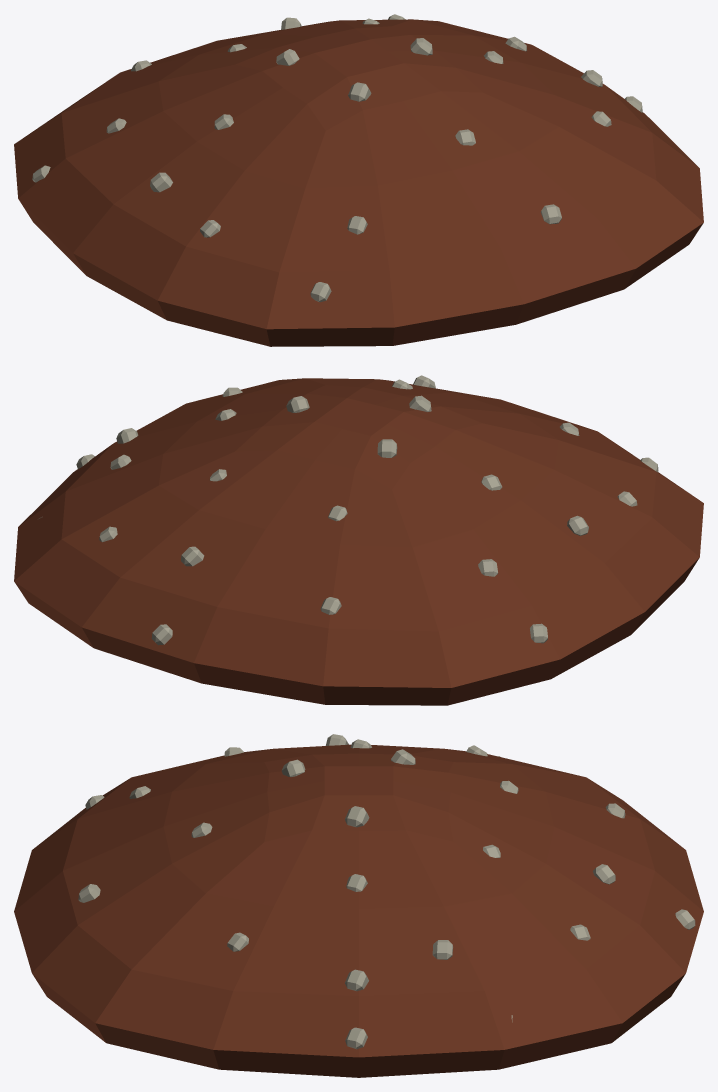
The model's file is Mushroom_Crop.gltf.
3 views of the same model, one above another, from view 1: azimuth 30°, elevation 25°; view 2: azimuth 150°, elevation 25°; view 3: azimuth 270°, elevation 25° (orthographic). The views are drawn at different scales.
Parts seen in each view (by area): view 1: Mushroom_Crop; view 2: Mushroom_Crop; view 3: Mushroom_Crop.
Part boxes in pixels (x1,y1,x2,y2): Mushroom_Crop: [14, 14, 703, 346]; Mushroom_Crop: [14, 375, 703, 705]; Mushroom_Crop: [14, 734, 703, 1077].
Bounding box in the file's own units: 0.4363 × 0.1185 × 0.4363.
